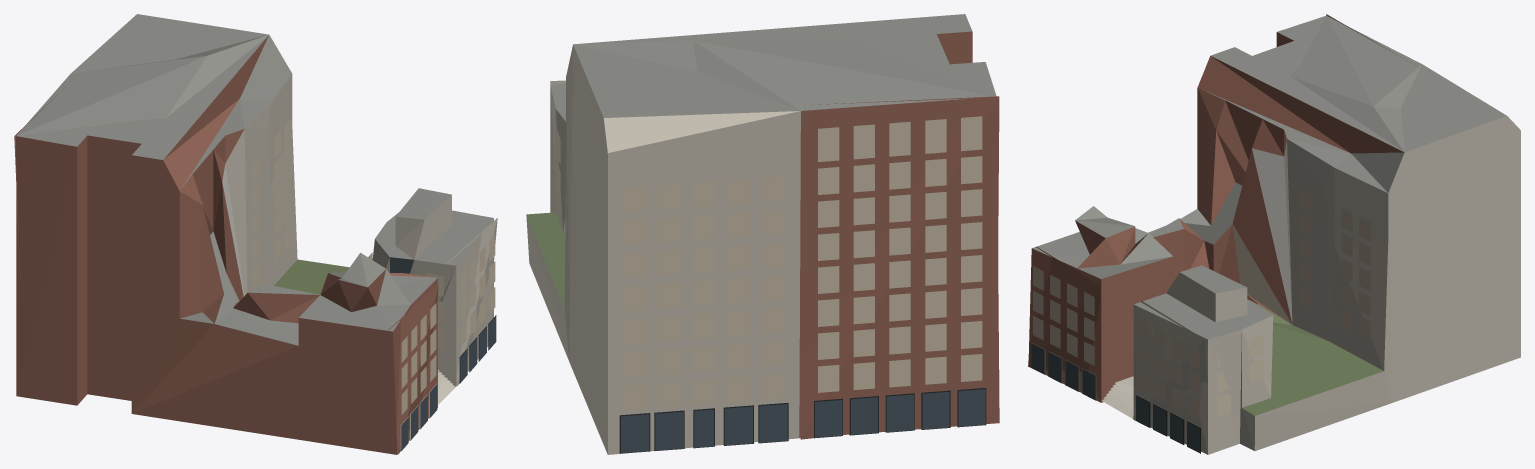
File: blok0-ij4you.lod2.glb
The picture shows the model from 3 angles, left to right: view 1: azimuth 30°, elevation 25°; view 2: azimuth 150°, elevation 25°; view 3: azimuth 270°, elevation 25°; orthographic projection. The views are drawn at different scales.
Parts seen in each view (by area): view 1: lod2; view 2: lod2; view 3: lod2.
Boxes of the visible parts, box(x1,y1,x2,y2) form: lod2: box(14, 14, 497, 454); lod2: box(526, 14, 999, 454); lod2: box(1028, 14, 1520, 454).
Size of the model in its own units: 48.79 by 29.87 by 52.16.
